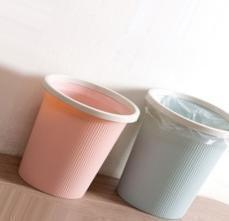Bote de Basura: (115, 75, 228, 220), (14, 70, 138, 200)
